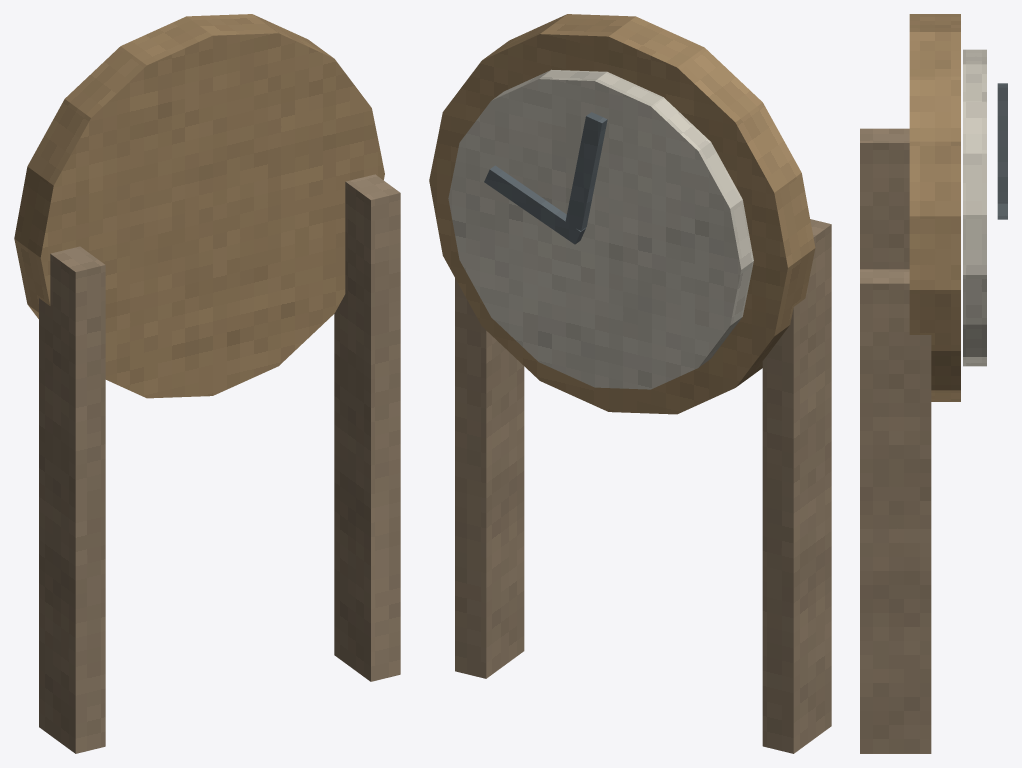
The model's file is level_blockout_rail_station_clock.glb.
3 views of the same model, side by side, from view 1: azimuth 30°, elevation 25°; view 2: azimuth 150°, elevation 25°; view 3: azimuth 270°, elevation 25° (orthographic). The views are drawn at different scales.
Visible parts, largest first — view 1: level_blockout_rail_station_clock; view 2: level_blockout_rail_station_clock; view 3: level_blockout_rail_station_clock.
Boxes of the visible parts, x1,y1,x2,y2 form: level_blockout_rail_station_clock: (14,14,400,753); level_blockout_rail_station_clock: (429,14,831,753); level_blockout_rail_station_clock: (860,14,1007,753).
Size of the model in its own units: 0.98 by 1.79 by 0.373.
4 materials, 4 textured.
